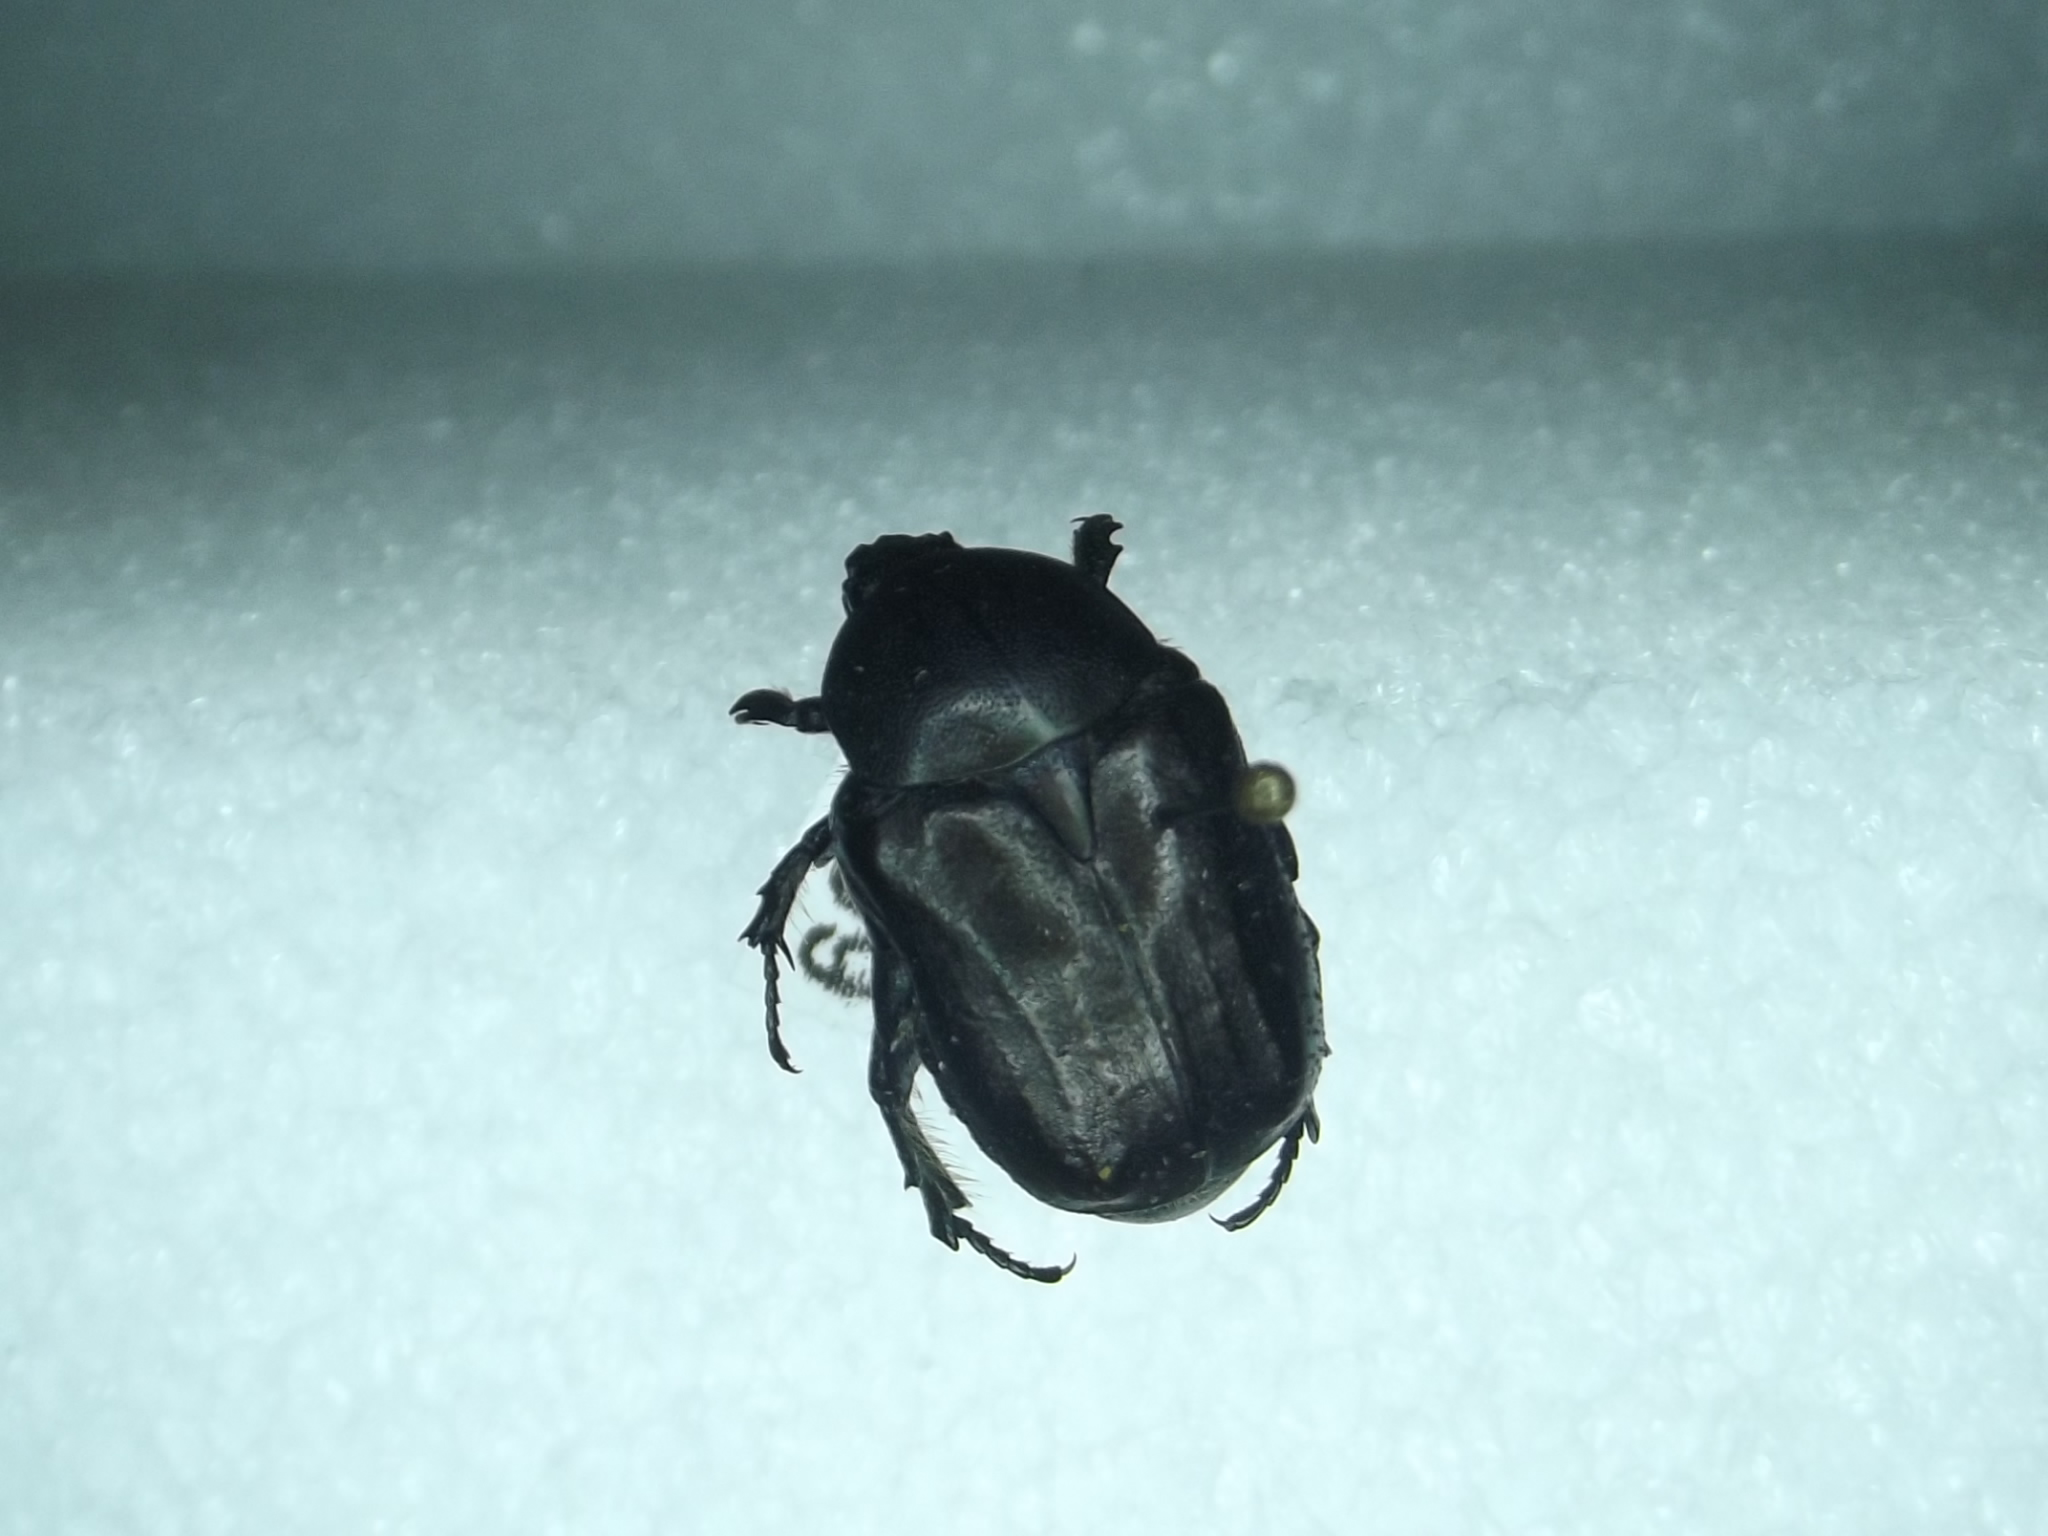Protaetia_vidua: (719, 474, 1363, 1297)
